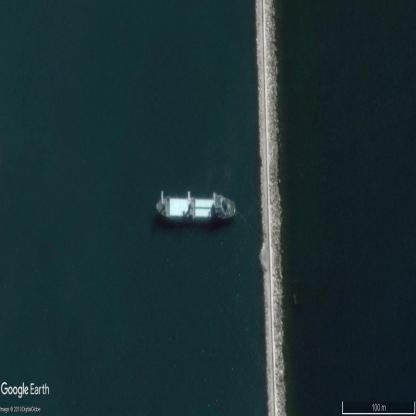ship: (156, 197, 236, 219)
